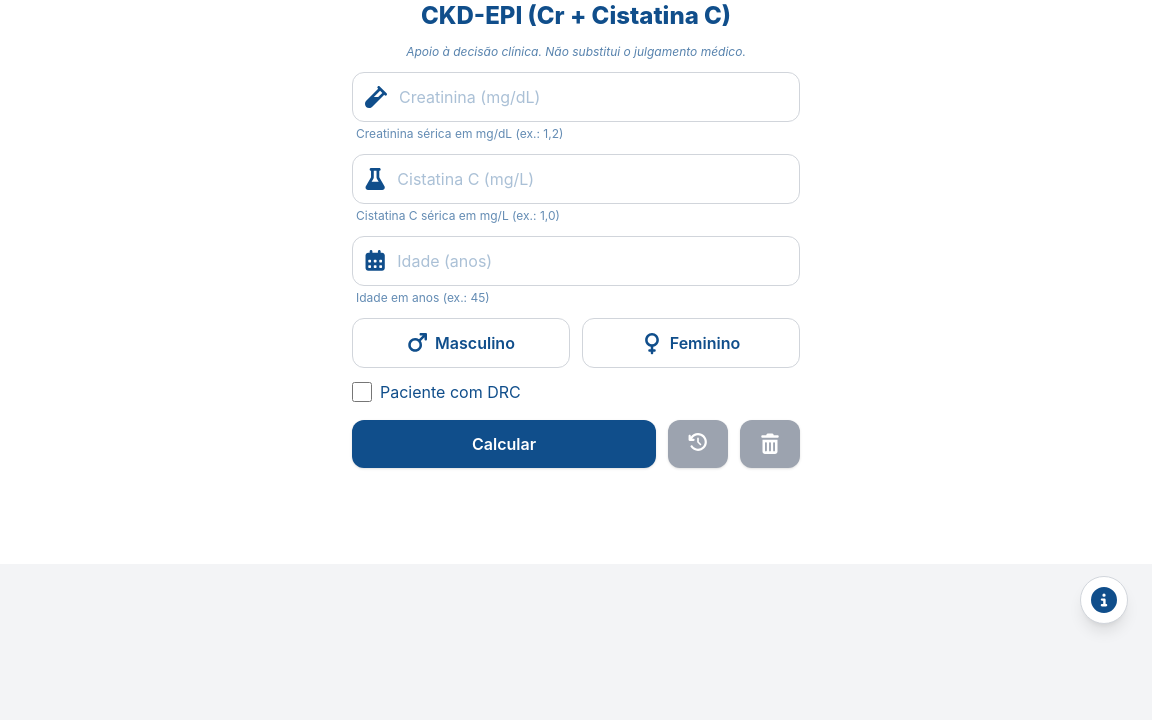
CKD-EPI Creatinina + Cistatina C (interface) › vazio: lista as pendências como o original
Click the button "Calcular": (504,444) [352,420,656,468]
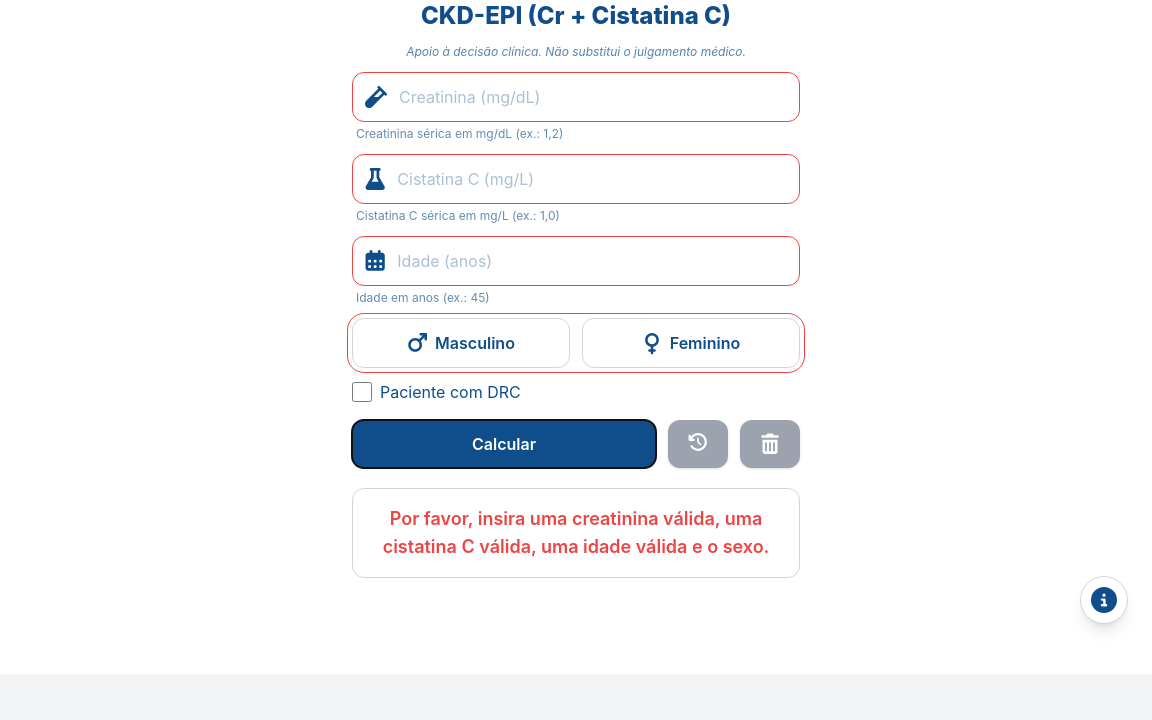
Expected: the message shows "Por favor, insira uma creatinina válida, uma cistatina C válida, uma idade válida e o sexo.", [383,508,769,557]
